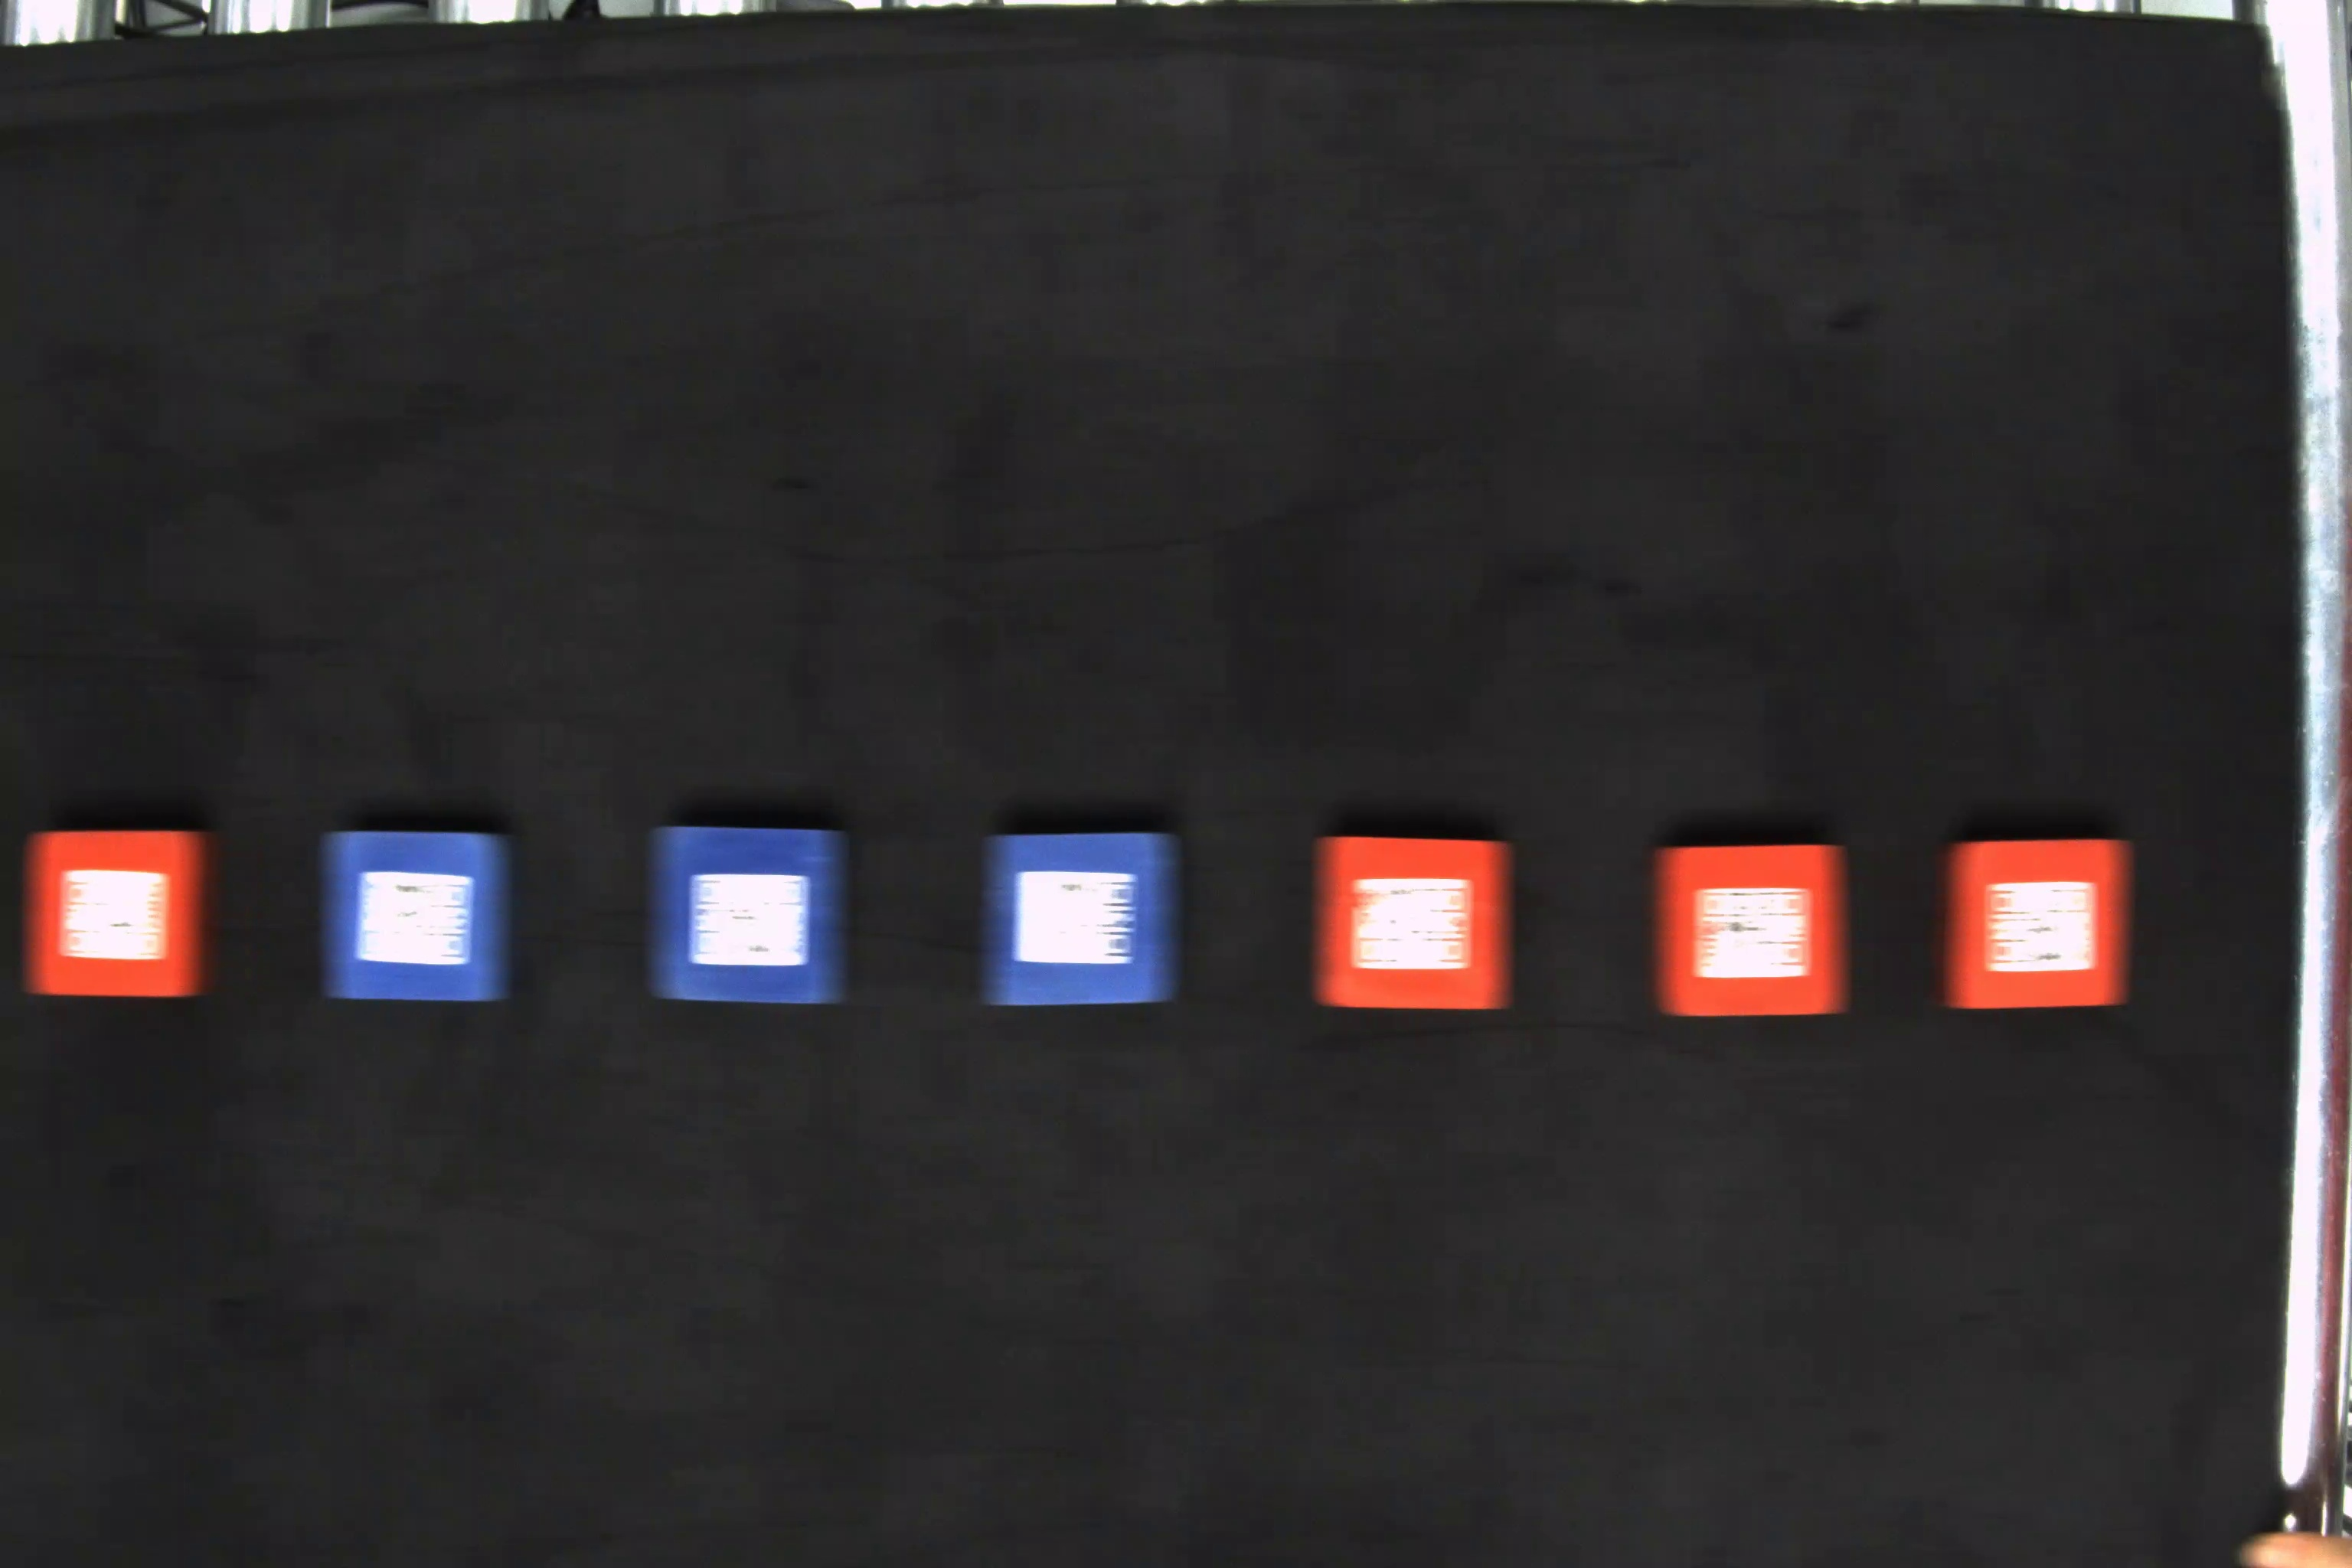wood: (1312, 829, 1526, 1018), (644, 821, 850, 1011), (318, 822, 520, 1011), (1650, 842, 1855, 1027), (976, 831, 1185, 1011), (21, 831, 227, 1004), (1937, 835, 2142, 1008)
